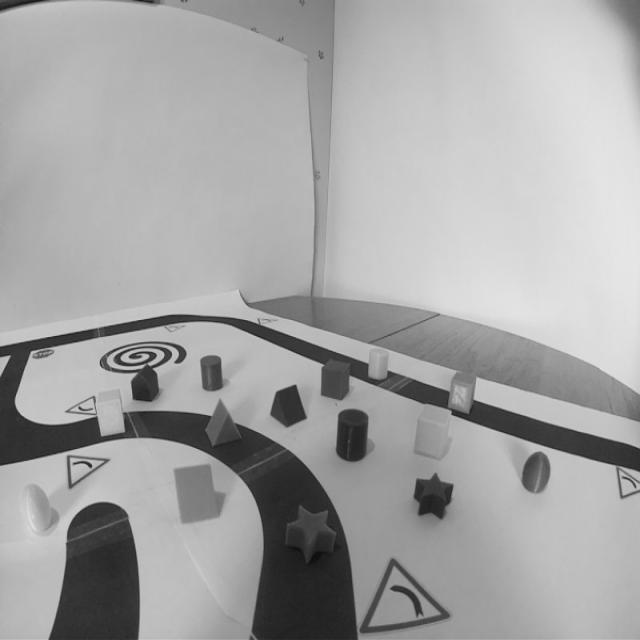ball: (16, 480, 58, 539), (519, 446, 555, 500)
cube: (408, 398, 452, 466), (93, 387, 128, 442), (446, 367, 479, 421), (317, 356, 354, 399)
cylinder: (333, 404, 371, 466), (198, 351, 224, 394)
laneLeftTurn: (218, 436, 365, 639)
nest: (98, 335, 191, 379)
star: (277, 499, 340, 567), (410, 470, 458, 524)
triangle: (169, 461, 224, 527), (203, 397, 243, 451), (268, 382, 312, 428)
